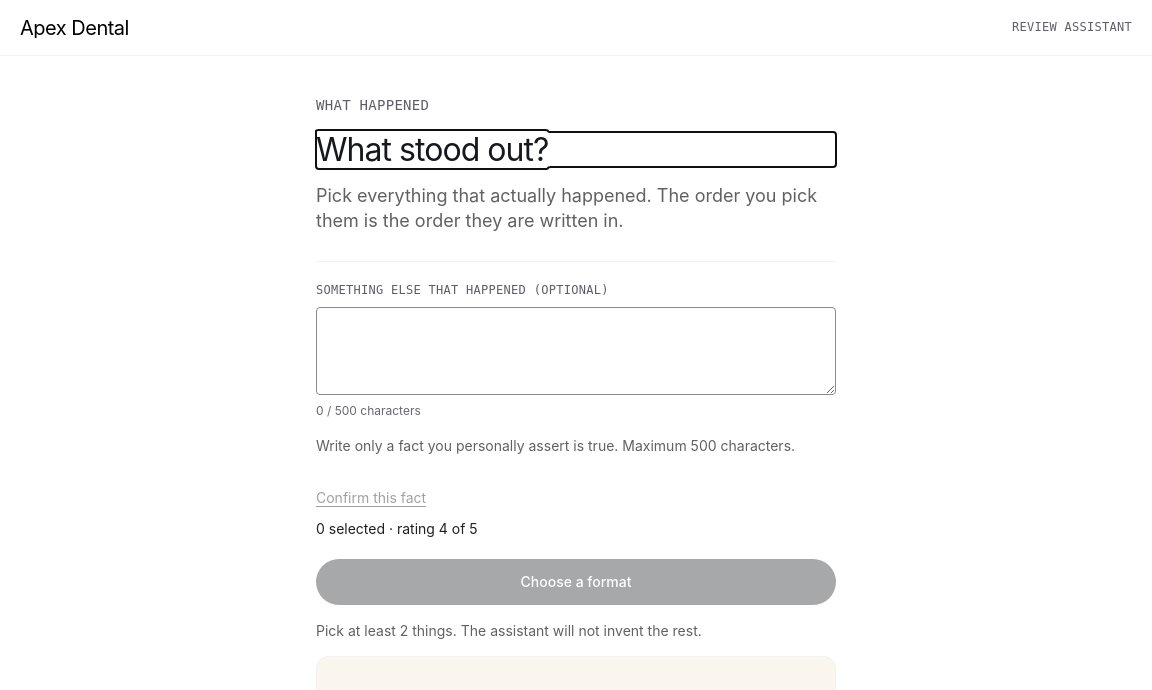
Test case: reviewer application routes › does not treat typed reviewer text as an Assertion until it is explicitly confirmed
Type "The reception was calm." into the text box labelled "Something else that happened (optional)" at [576, 351], box [316, 307, 836, 395]
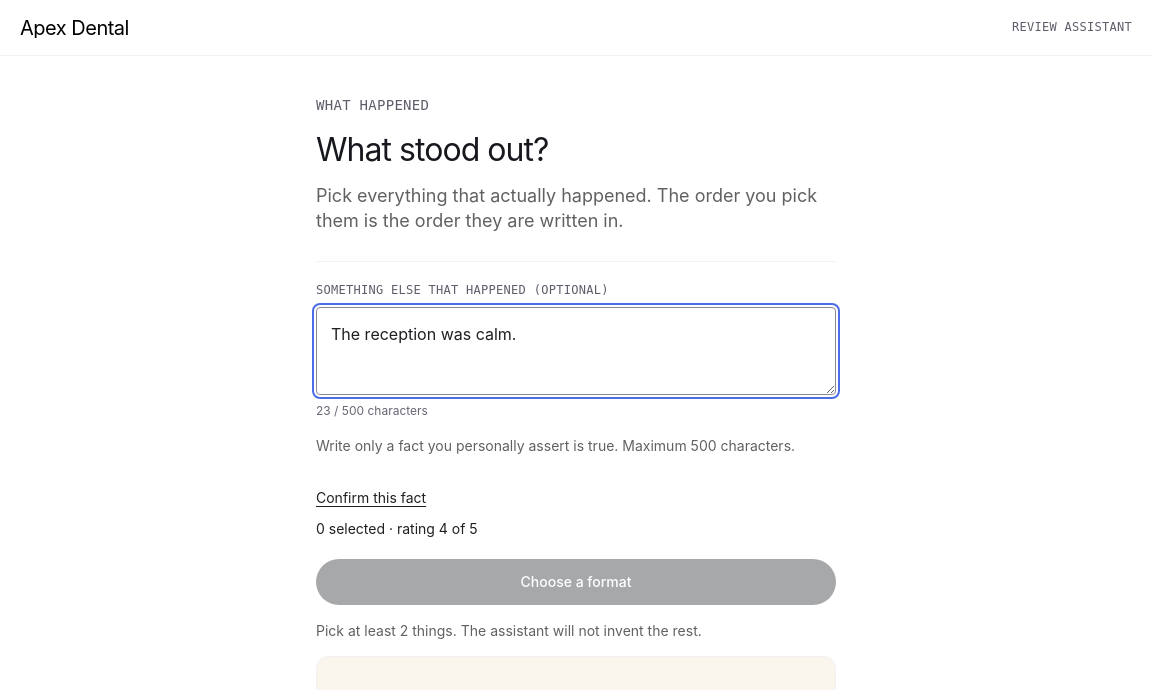
expect the button "Choose a format" is disabled: met, box [316, 559, 836, 605]
Click the button "Confirm this fact" at [371, 497], box [316, 475, 426, 519]
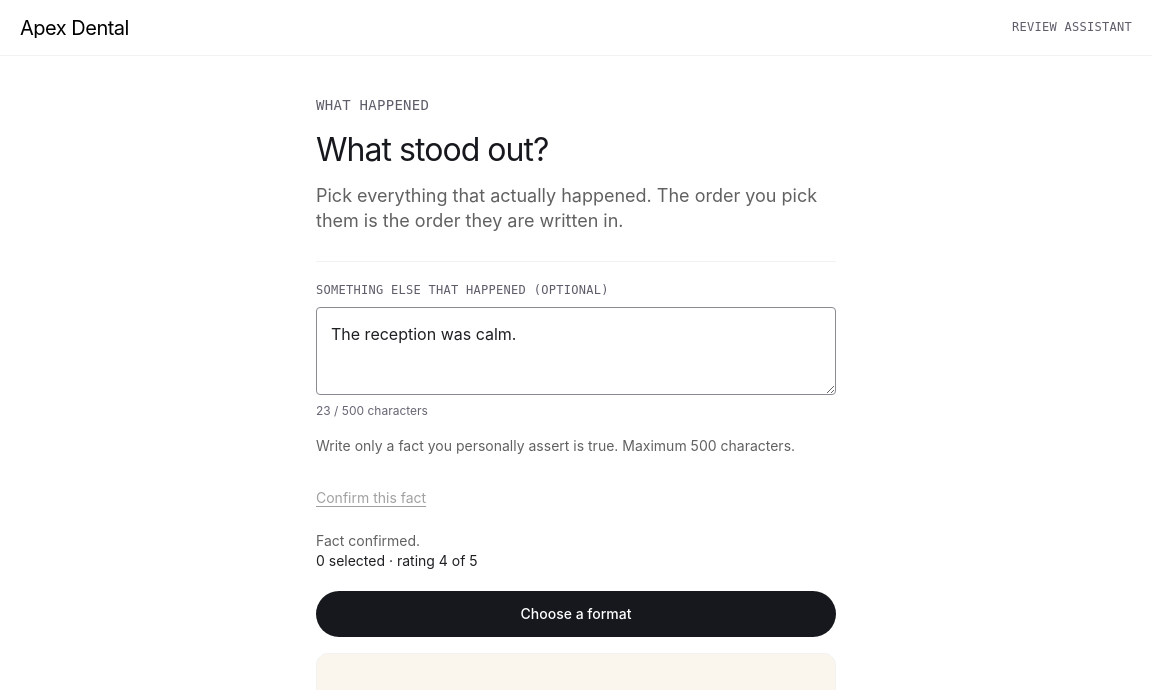
expect the text "Fact confirmed." is shown: met, box [316, 532, 420, 549]
expect the button "Choose a format" is enabled: met, box [316, 591, 836, 637]
Type " Very quiet too." into the text box labelled "Something else that happened (optional)" at [576, 351], box [316, 307, 836, 395]
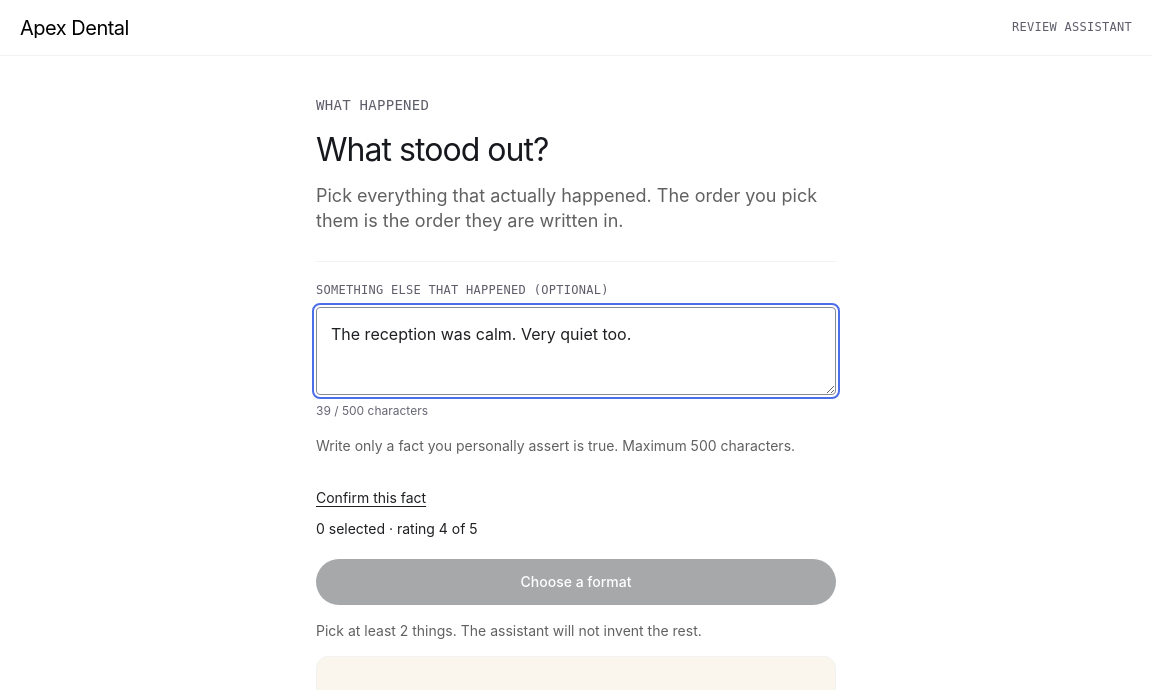
expect the button "Choose a format" is disabled: met, box [316, 559, 836, 605]
expect the text "Fact confirmed." is gone: met
